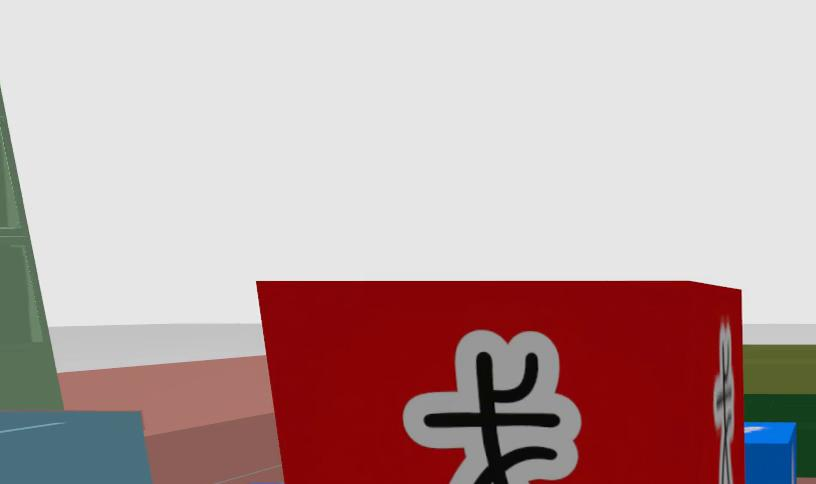KFS_FAKE: (258, 281, 746, 484), (403, 330, 580, 484), (713, 322, 737, 484)
KFS_REAL: (253, 480, 283, 484)
